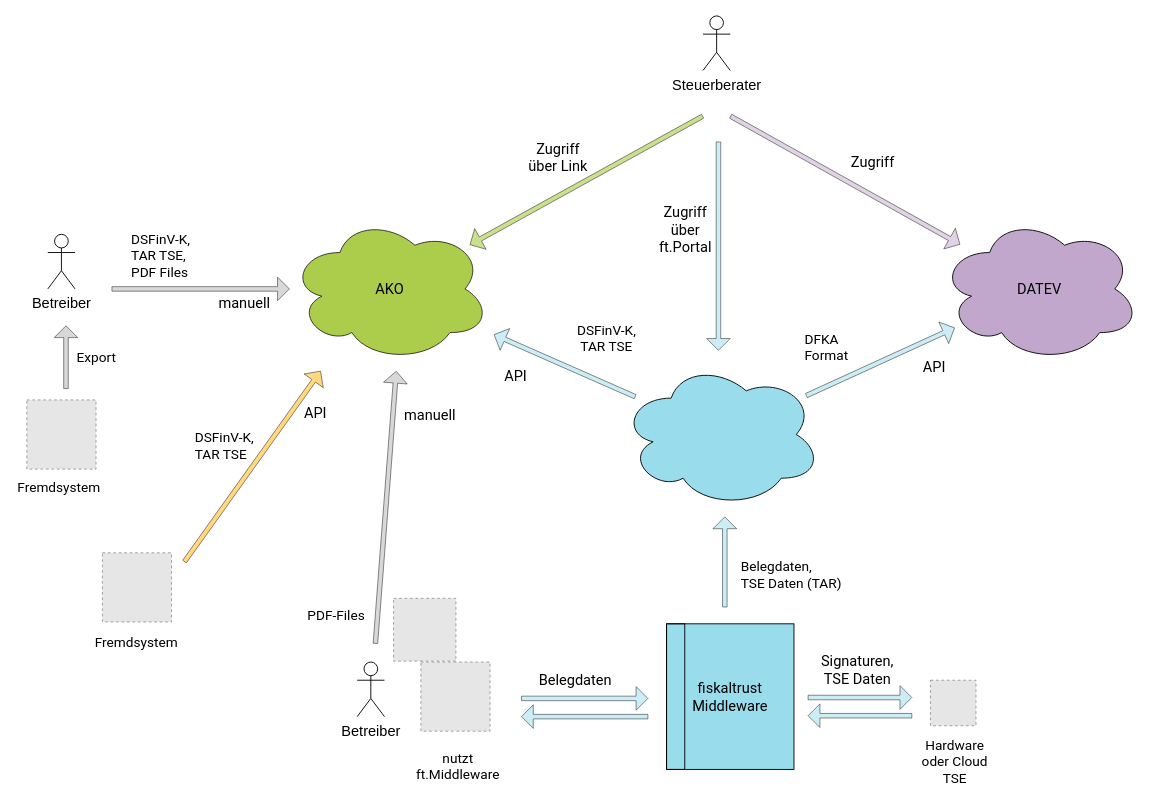
This 1156x811 diagram has some shape labels left out. Grey dashed boxes stand in for pictures. Here are the shapes that lost their labels. From the top down, the centre of each, then its label:
At [720,434]: "POSArchiv".
At [675,696]: "I P O S".
